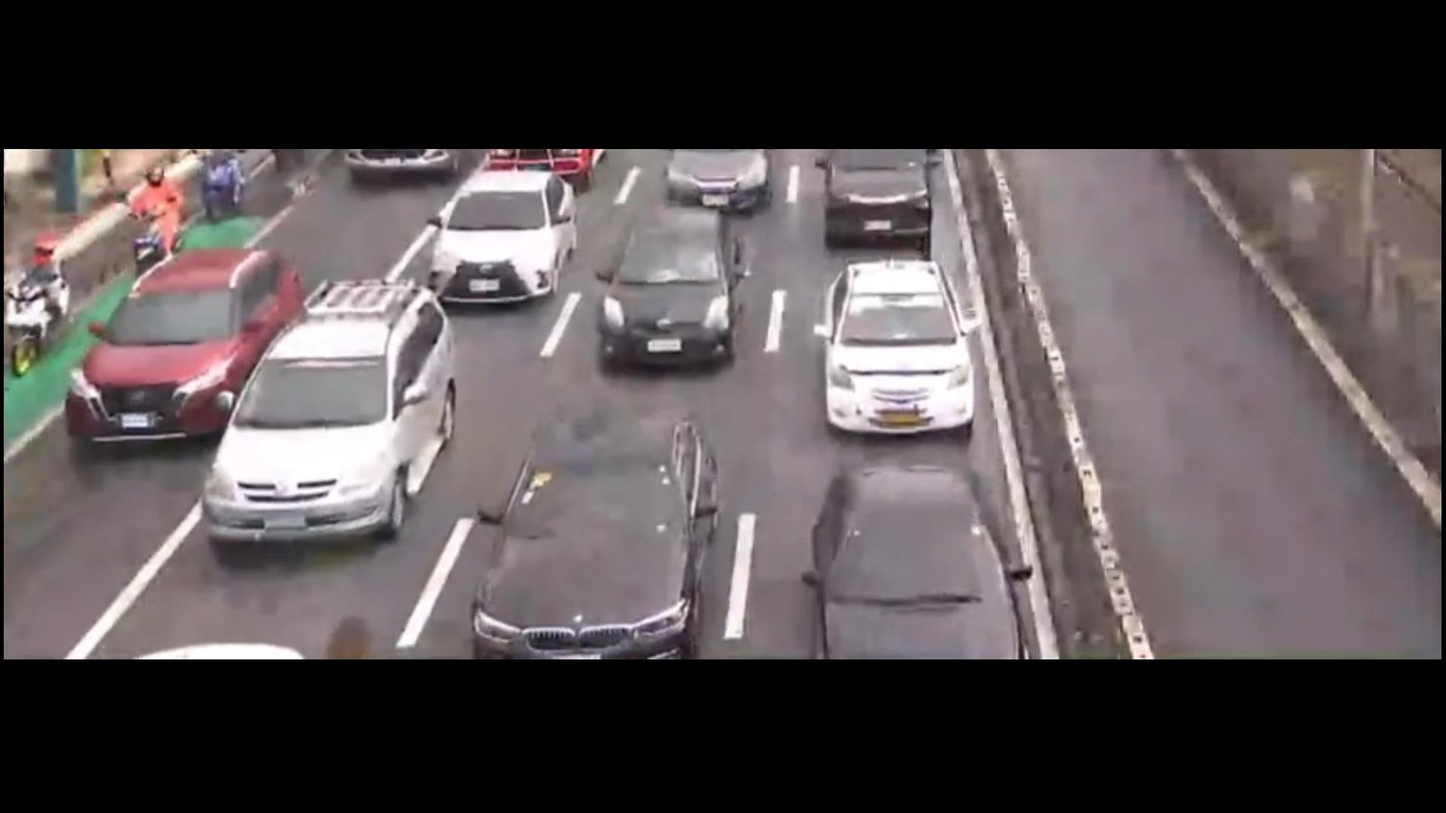Motorcycle: (0, 245, 79, 389), (132, 153, 189, 283), (194, 149, 258, 235)
SUV: (457, 379, 750, 663), (192, 283, 486, 560), (64, 222, 305, 468)
Sedan: (804, 441, 1021, 661), (792, 243, 987, 447), (588, 202, 765, 387), (432, 168, 586, 298)
